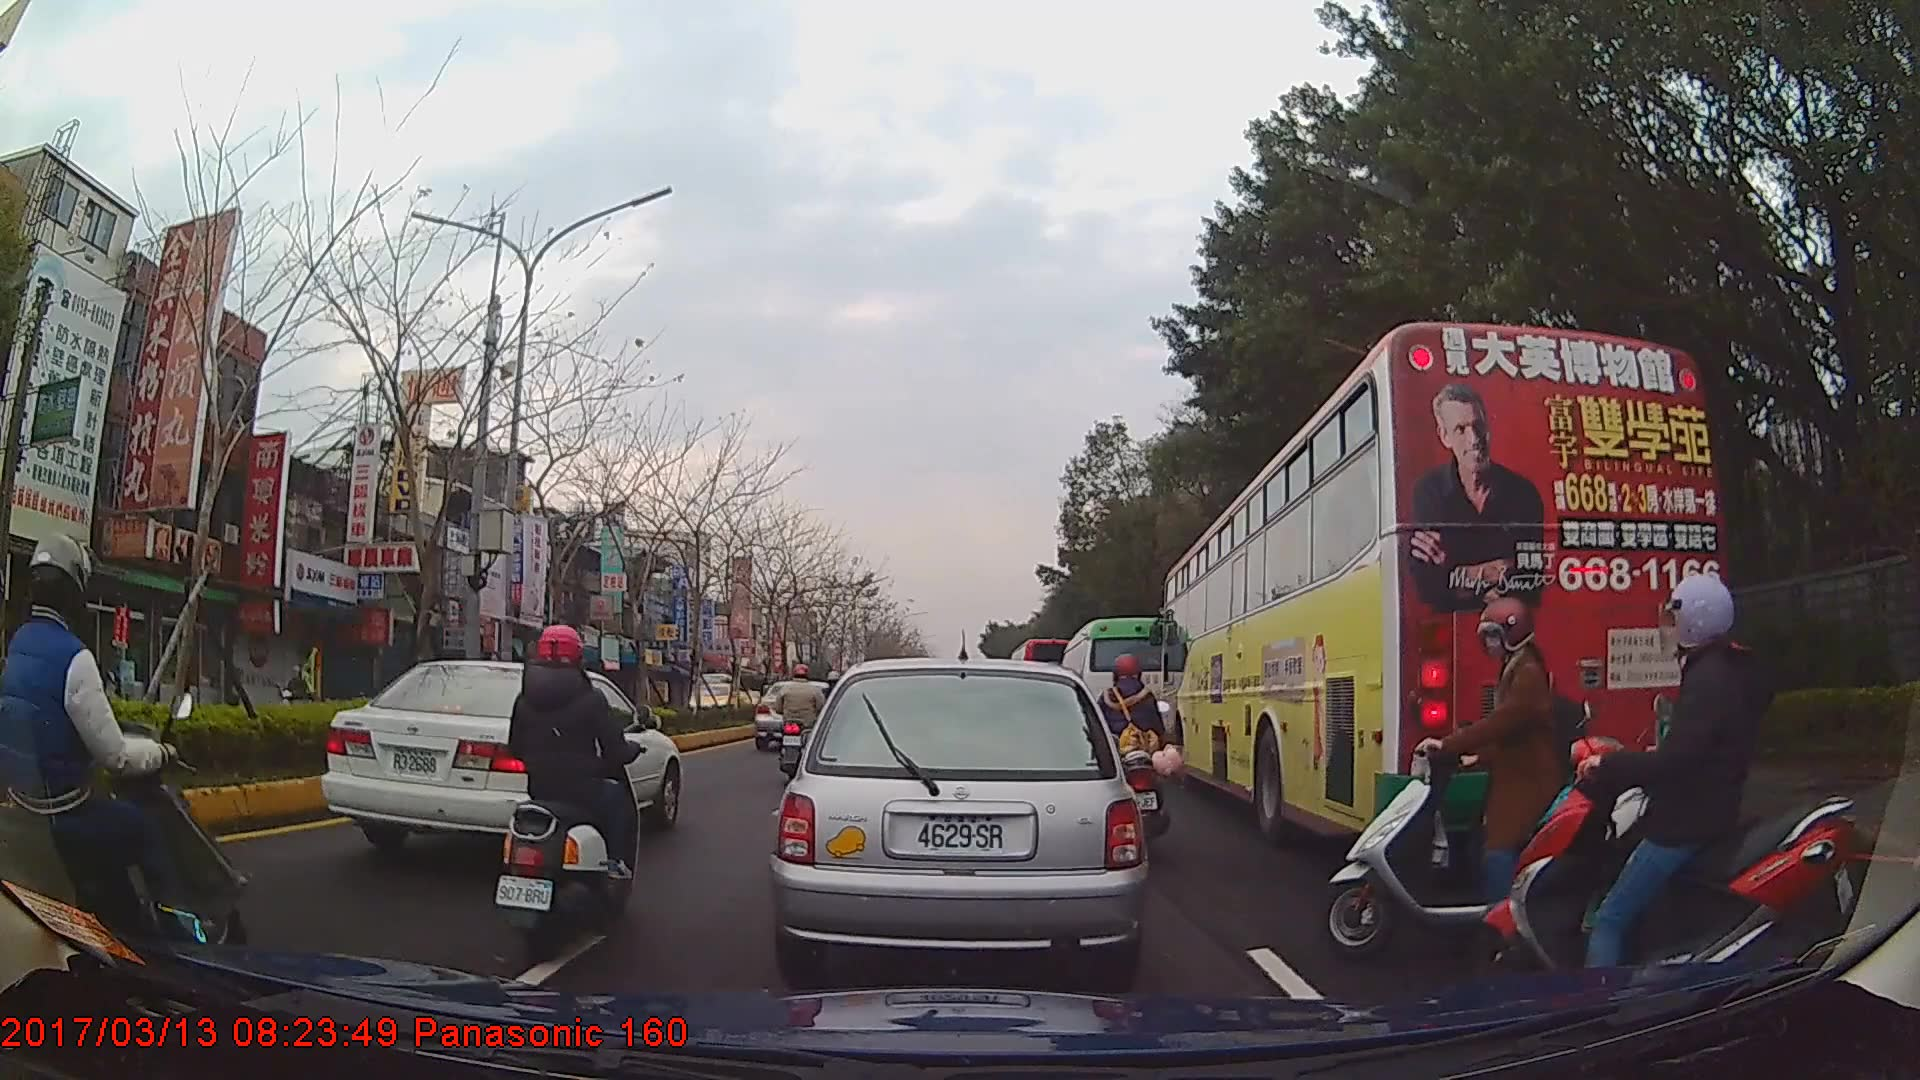rider: (1486, 572, 1844, 1036), (1317, 595, 1673, 968), (494, 623, 646, 971), (1089, 655, 1180, 839), (780, 662, 829, 782), (282, 664, 311, 704)
vehicle: (1160, 319, 1730, 847), (769, 654, 1149, 977), (318, 656, 681, 856), (1057, 617, 1186, 763), (686, 680, 744, 717)
